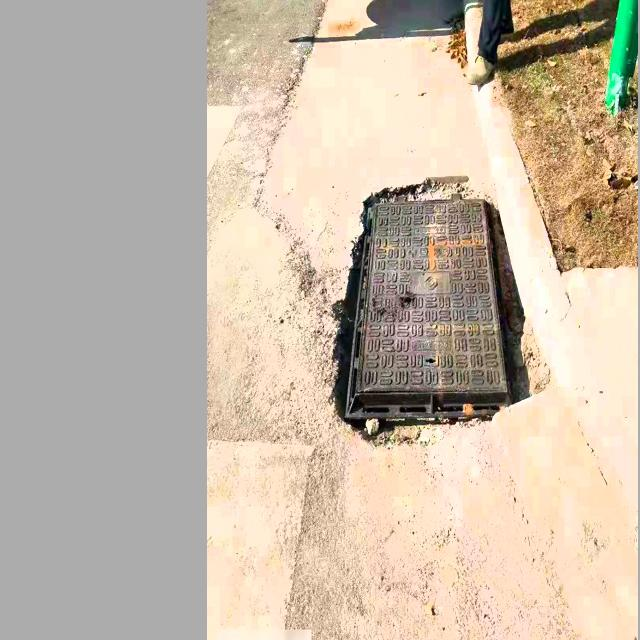circle: (332, 186, 533, 437)
